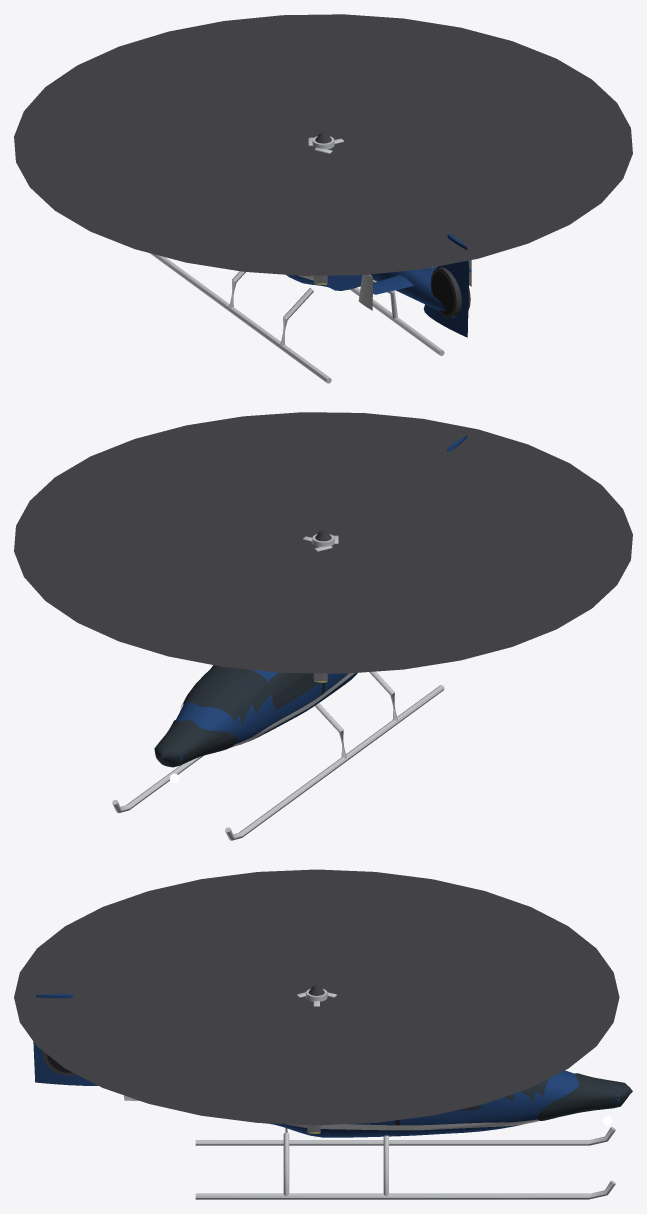
Rendered from kite.glb.
3 renders of one model, top to bottom at view 1: azimuth 30°, elevation 25°; view 2: azimuth 150°, elevation 25°; view 3: azimuth 270°, elevation 25°, orthographic. The views are drawn at different scales.
Visible parts, largest first — view 1: RotorBlur, Body, Rotor; view 2: RotorBlur, Body, Rotor; view 3: RotorBlur, Body, Rotor.
Boxes of the visible parts, x1,y1,x2,y2 form: RotorBlur: [14, 14, 632, 275]; Body: [149, 234, 471, 383]; Rotor: [308, 132, 343, 284]; RotorBlur: [14, 412, 632, 673]; Body: [112, 435, 467, 840]; Rotor: [303, 529, 338, 682]; RotorBlur: [14, 869, 619, 1125]; Body: [33, 993, 632, 1199]; Rotor: [296, 984, 336, 1133].
Size of the model in its own units: 10 by 3.4 by 10.22.
